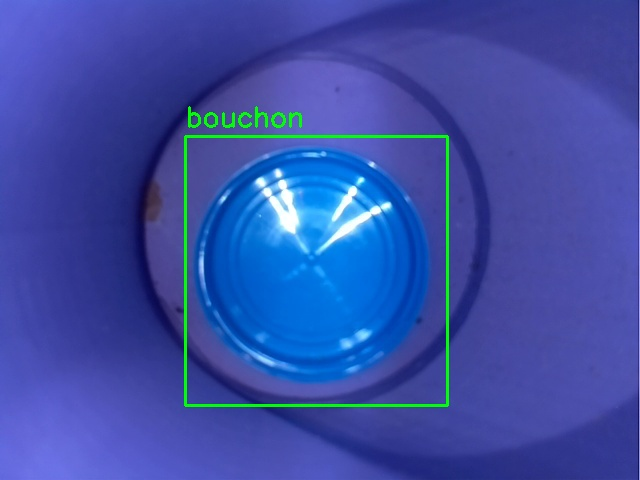bouchon: (185, 136, 447, 405)
